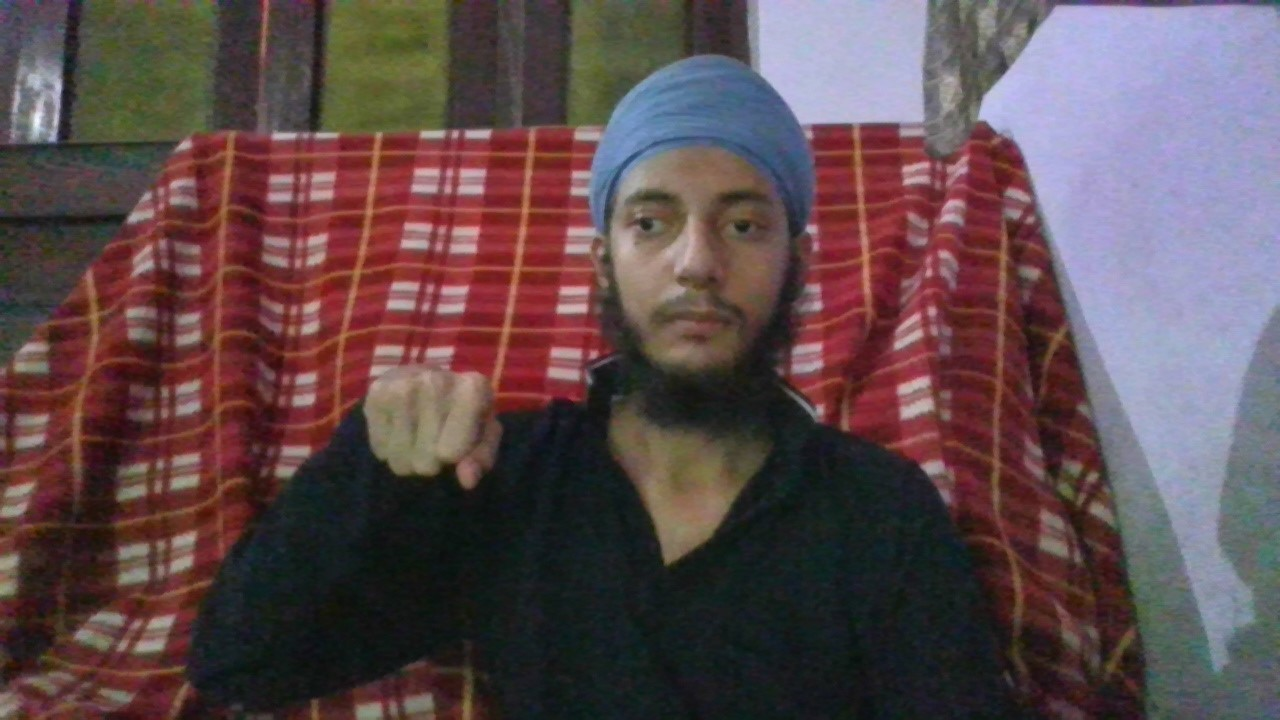Yes: (365, 367, 502, 492)
